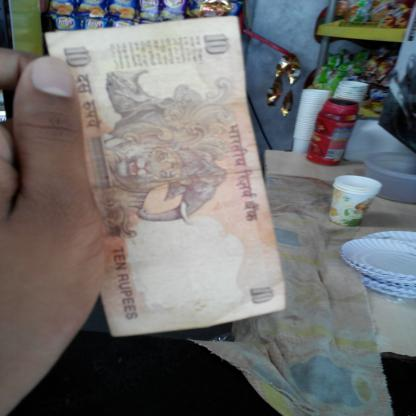Old10Back: (44, 16, 288, 338)
